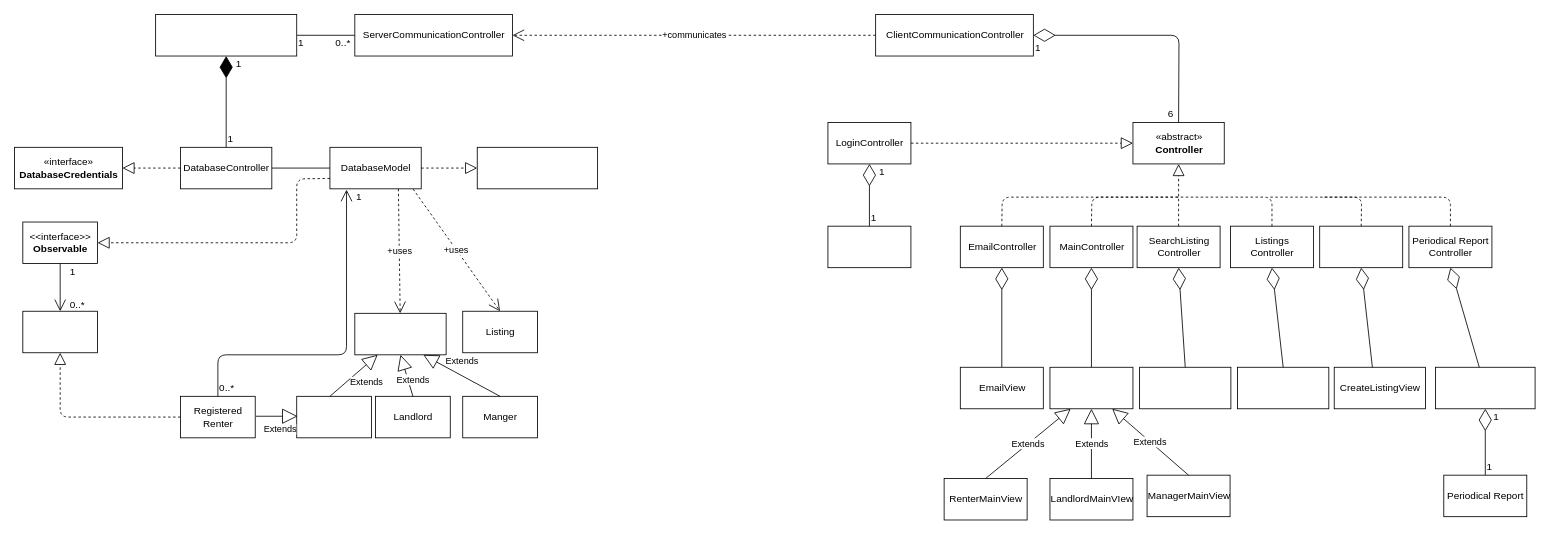
Some shapes in this 1550 by 535 pixel diagram are drawn without their labels. Each missing label, with the box of its shape:
<<abstract>> MainView: (1049, 366, 1133, 409)
<<interface>> Observer: (22, 310, 98, 353)
CreateListing Controller: (1319, 225, 1403, 268)
ListingsView: (1237, 366, 1329, 409)
LoginView: (827, 225, 911, 268)
ManagementSystemController: (155, 14, 297, 56)
PeriodicalReportView: (1435, 366, 1535, 409)
Renter: (296, 395, 371, 438)
SearchListingView: (1139, 366, 1231, 409)
«abstract» User: (354, 312, 446, 355)
«interface» DatabaseAccessQueries: (476, 146, 598, 189)
